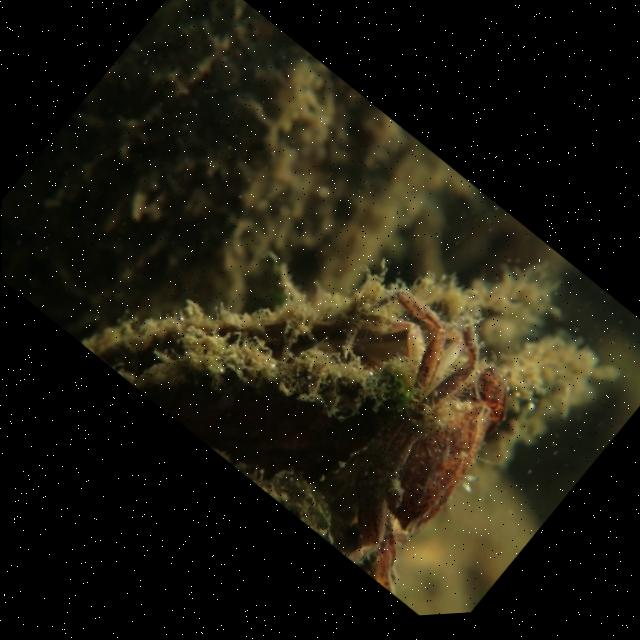Oyster-Open: (82, 282, 468, 457)
